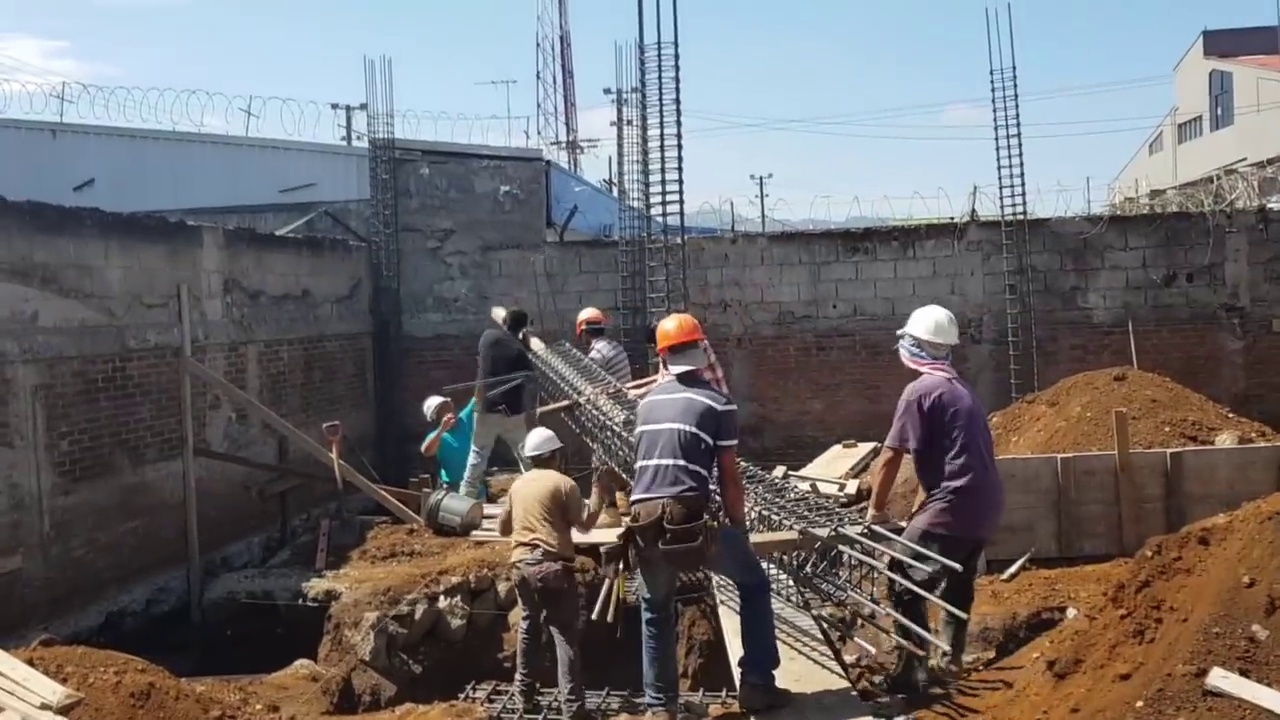helmet: (902, 306, 967, 354), (655, 314, 709, 355), (573, 306, 612, 336), (521, 430, 555, 463), (423, 394, 450, 422)
helmet-off: (502, 309, 529, 340)
helmet-on: (896, 306, 966, 380), (654, 312, 715, 388), (520, 427, 564, 473), (573, 306, 611, 349), (422, 393, 455, 430)
person: (623, 313, 772, 711), (856, 296, 998, 706), (503, 428, 598, 698), (564, 308, 631, 529), (460, 306, 532, 495), (422, 393, 474, 496)
